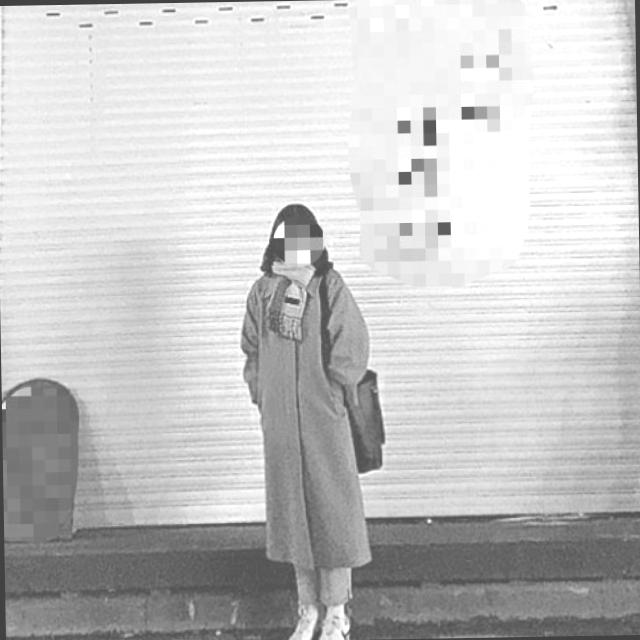coat: (240, 259, 370, 572)
denimpants: (294, 562, 351, 608)
